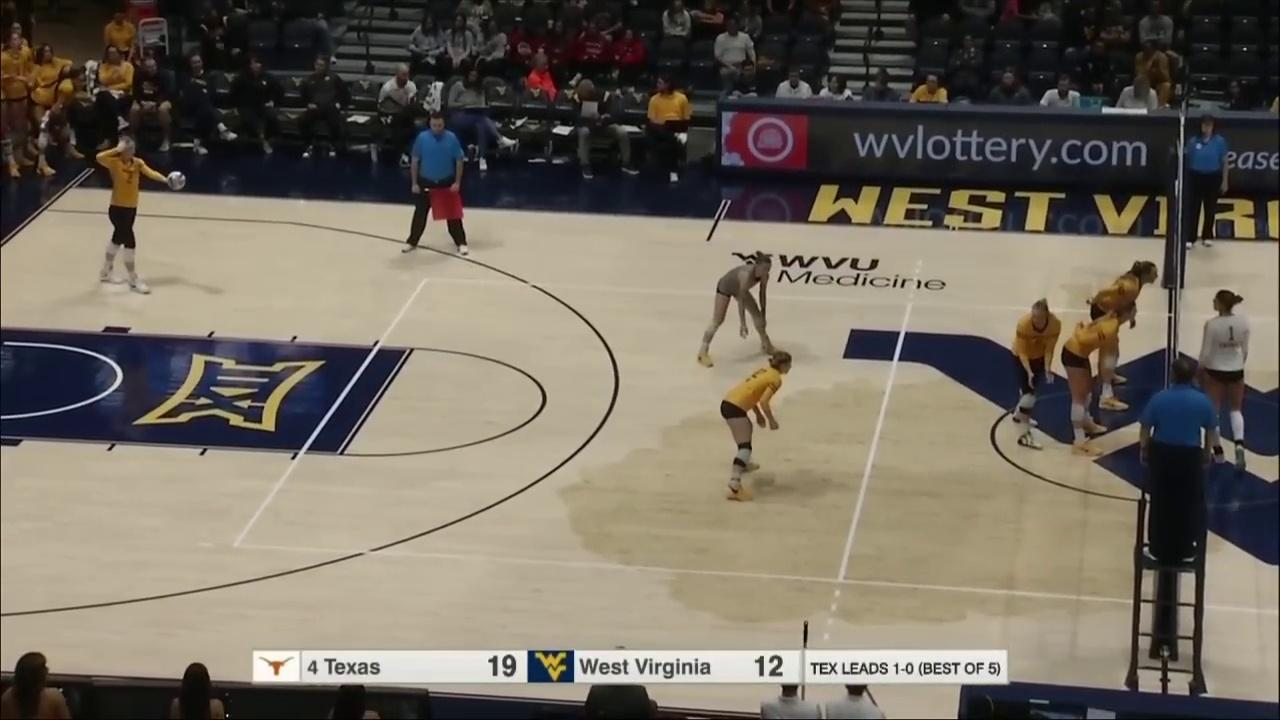player: (95, 137, 174, 299), (717, 346, 797, 503), (1063, 300, 1137, 453), (1194, 287, 1252, 466), (1093, 256, 1157, 411), (695, 255, 776, 369), (1010, 299, 1060, 448)
refree: (1140, 357, 1218, 561), (403, 115, 469, 256), (1176, 117, 1229, 251)
